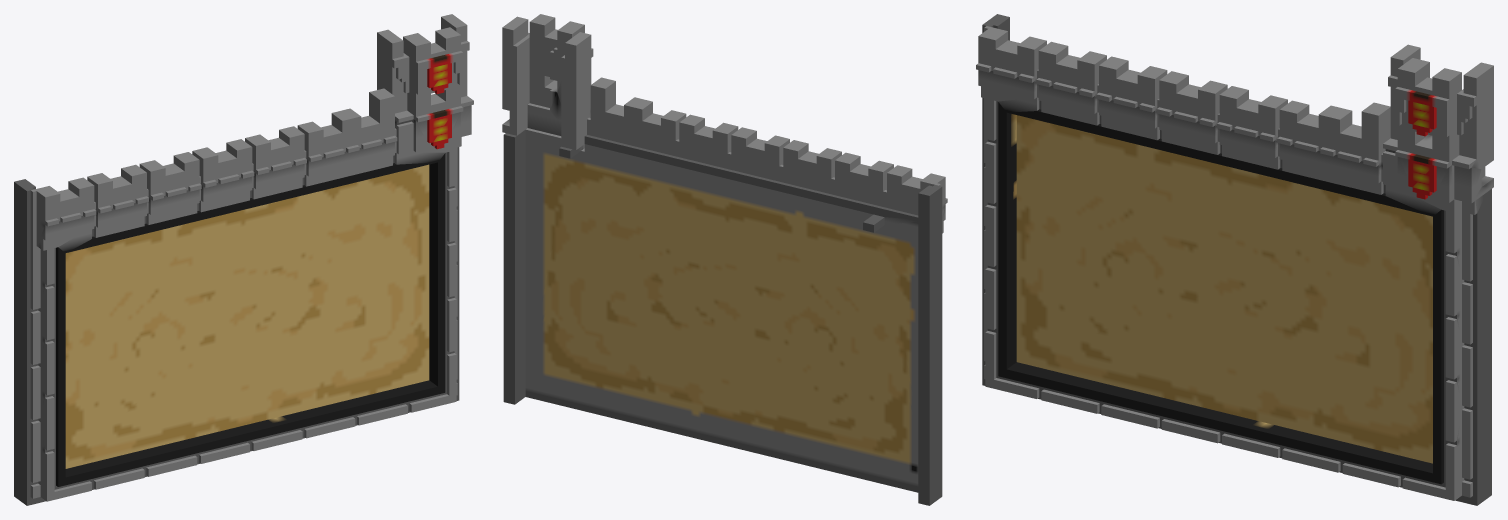
The model's file is Side Board Right.fbx.
The picture shows the model from 3 angles, left to right: view 1: azimuth 30°, elevation 25°; view 2: azimuth 150°, elevation 25°; view 3: azimuth 330°, elevation 25°; orthographic projection. The views are drawn at different scales.
Parts seen in each view (by area): view 1: Side_Board_Right.Merged; view 2: Side_Board_Right.Merged; view 3: Side_Board_Right.Merged.
Boxes of the visible parts, x1,y1,x2,y2 form: Side_Board_Right.Merged: (14, 14, 473, 505); Side_Board_Right.Merged: (502, 14, 947, 505); Side_Board_Right.Merged: (976, 14, 1493, 505).
Size of the model in its own units: 23200 by 19200 by 2600.
